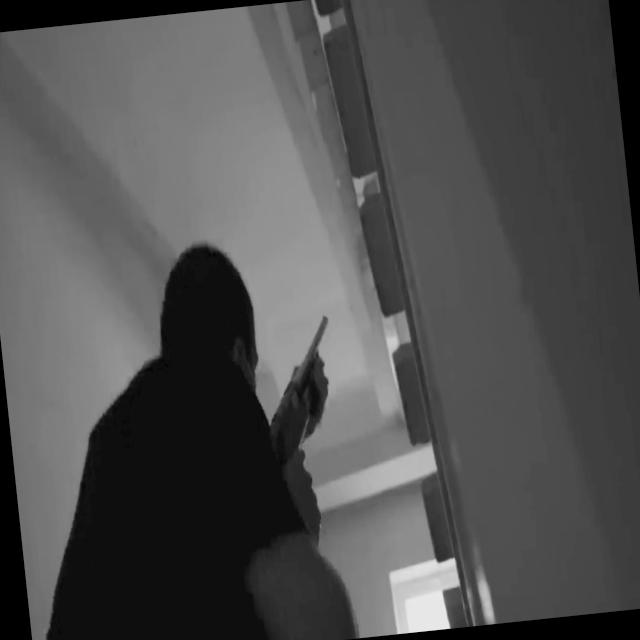gun: (256, 314, 344, 472)
person with a gun: (3, 229, 362, 640)
